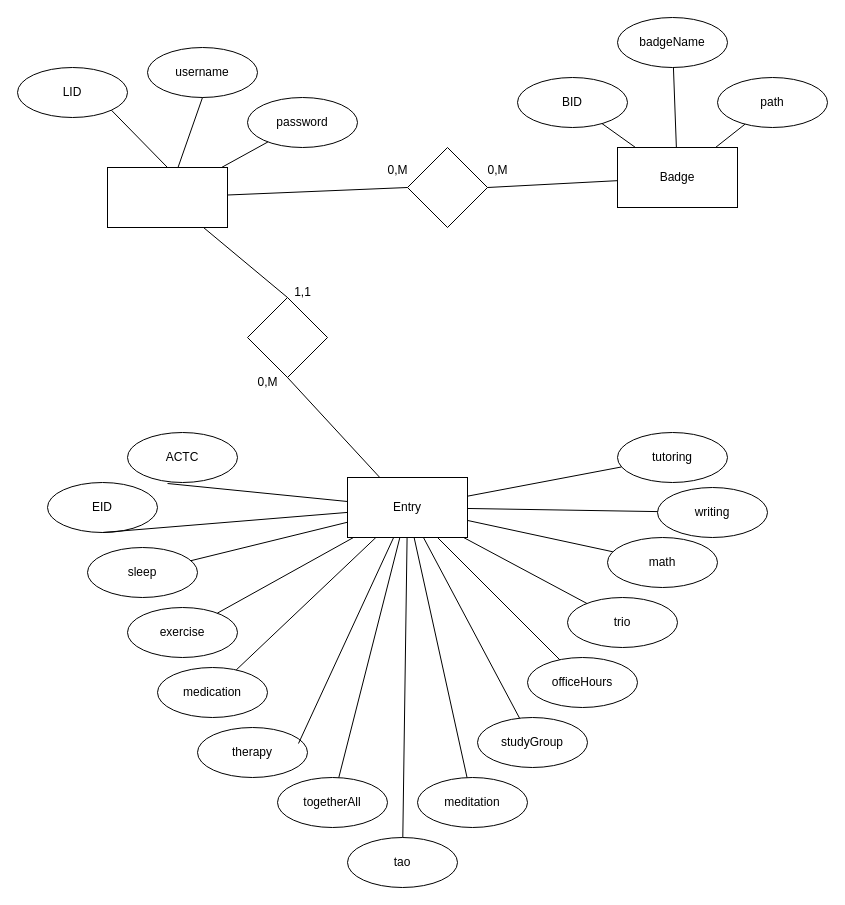
Image size: 845x905. Some labels were removed from this diagram. The centre of each missing label's shape, as x and y in pixels:
"Login" belongs at (167,197).
"loginBadges" belongs at (447,187).
"loginEntries" belongs at (287,337).
